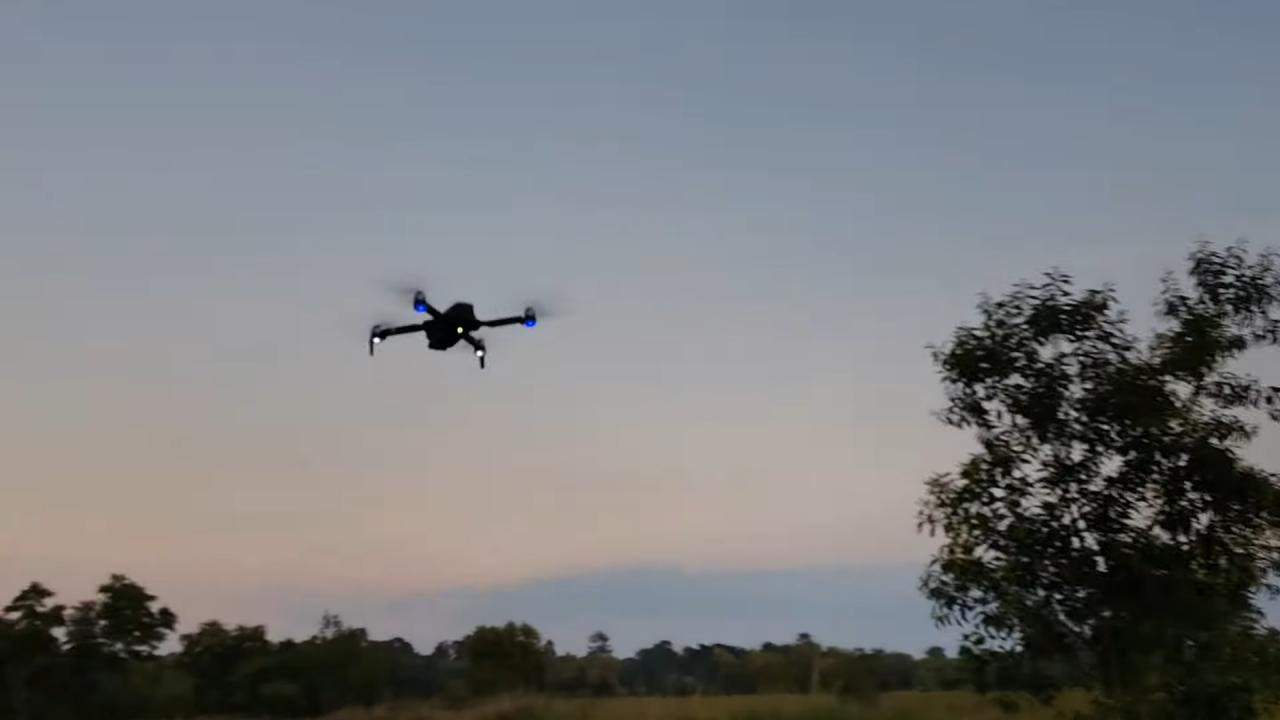Drone: (343, 276, 559, 381)
